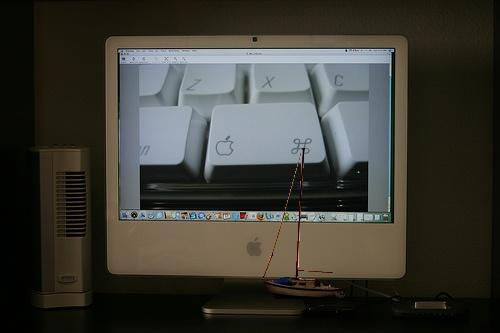tampered: (263, 149, 345, 299)
